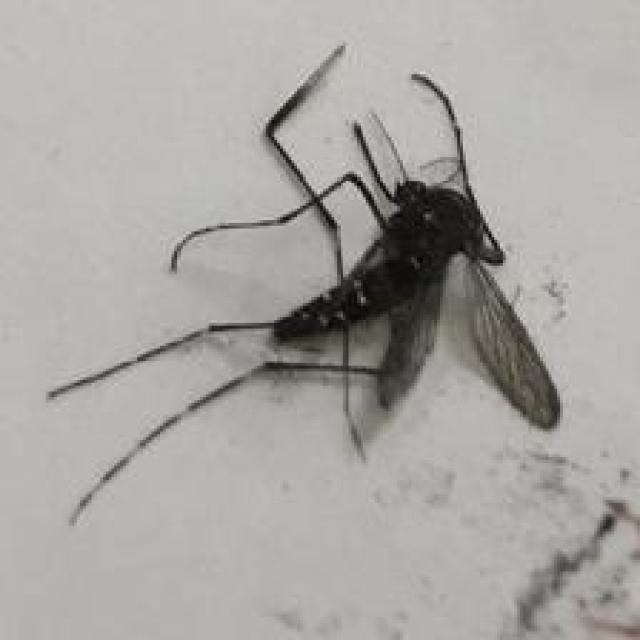Aedes albopictus: (46, 40, 563, 526)
